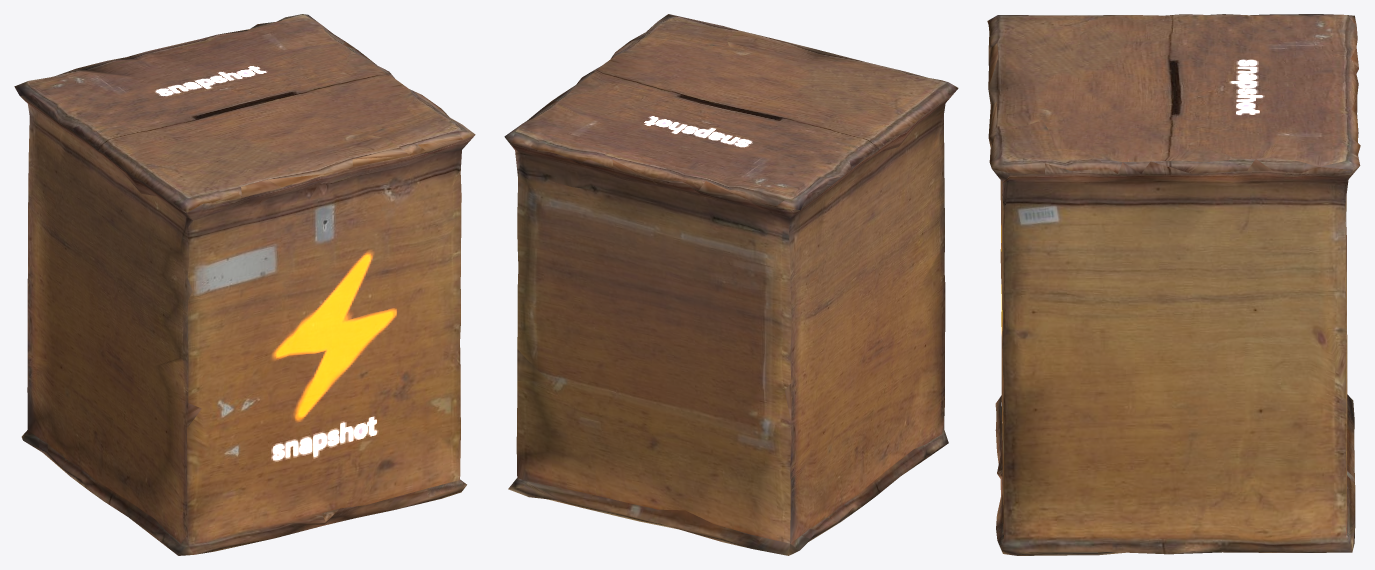
File: snapshot_ballot_box.glb
3 renders of one model, left to right at view 1: azimuth 30°, elevation 25°; view 2: azimuth 150°, elevation 25°; view 3: azimuth 270°, elevation 25°, orthographic. The views are drawn at different scales.
Parts seen in each view (by area): view 1: ballotbox_0; view 2: ballotbox_0; view 3: ballotbox_0.
Part boxes in pixels (x1,y1,x2,y2): ballotbox_0: (14,14,475,555); ballotbox_0: (504,14,958,555); ballotbox_0: (987,14,1360,555).
Bounding box in the file's own units: 0.804 × 0.9348 × 0.8022.
1 material, 1 textured.
